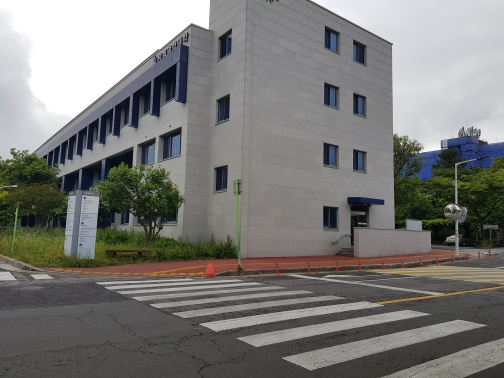College of Social Sciences: (36, 2, 438, 260), (56, 48, 189, 162), (322, 187, 398, 261)
